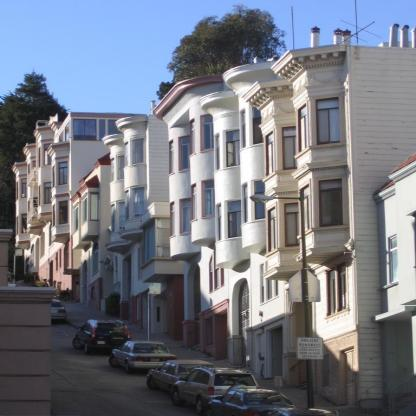Car: (73, 321, 341, 416), (172, 365, 257, 414), (145, 361, 219, 398), (108, 340, 177, 376), (72, 320, 134, 359), (210, 387, 290, 416), (270, 405, 339, 416), (51, 300, 67, 324), (9, 284, 19, 288)
